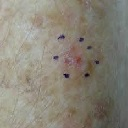Actinic: (65, 44, 90, 71)
